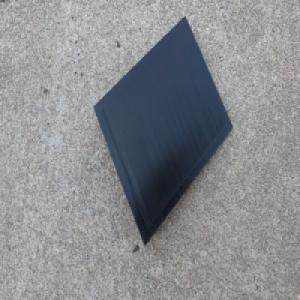PlasticPart: (93, 16, 233, 246)
